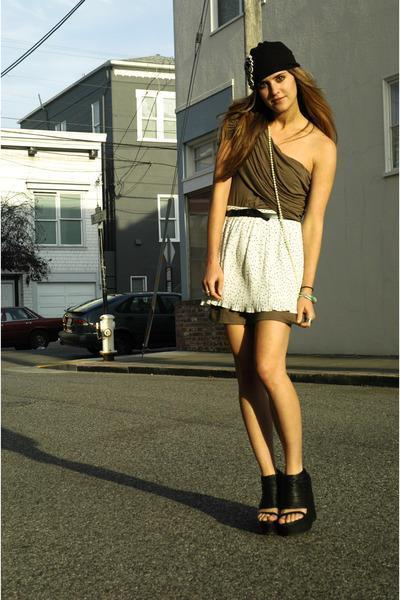dress: (197, 132, 315, 347)
hat: (244, 41, 298, 87)
shoe: (259, 468, 317, 539)
